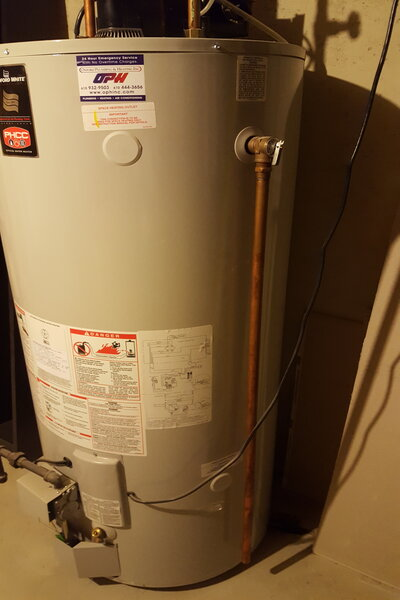valve: (246, 132, 287, 180)
